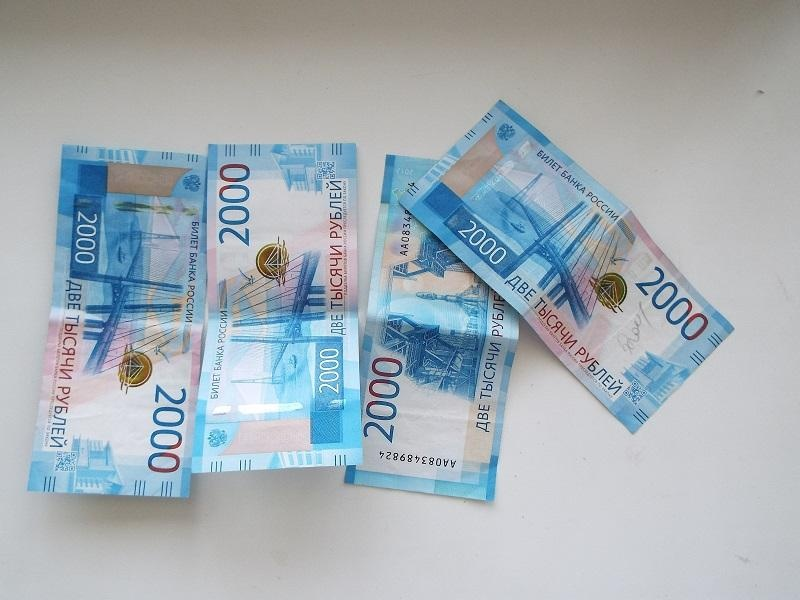cash: (25, 100, 733, 501)
